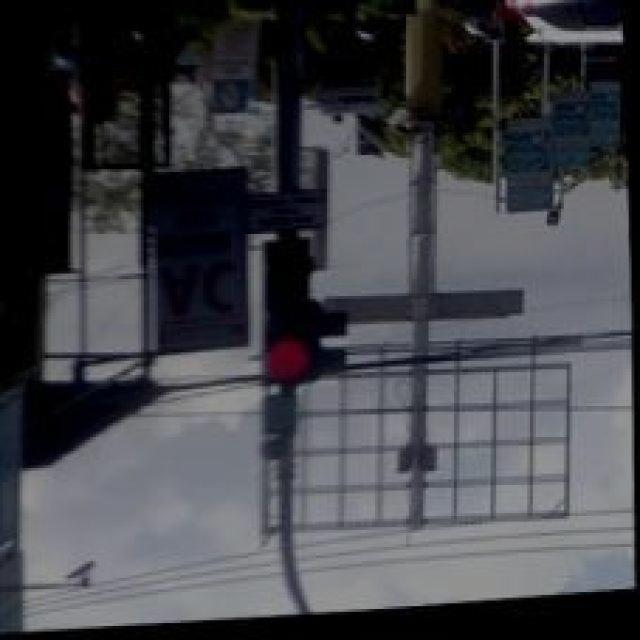Red: (258, 233, 336, 388)
